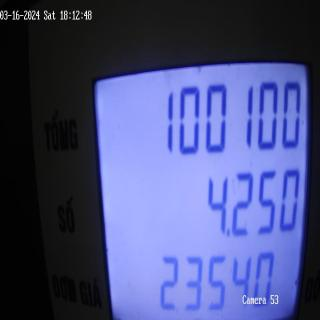screen: (87, 44, 316, 320)
